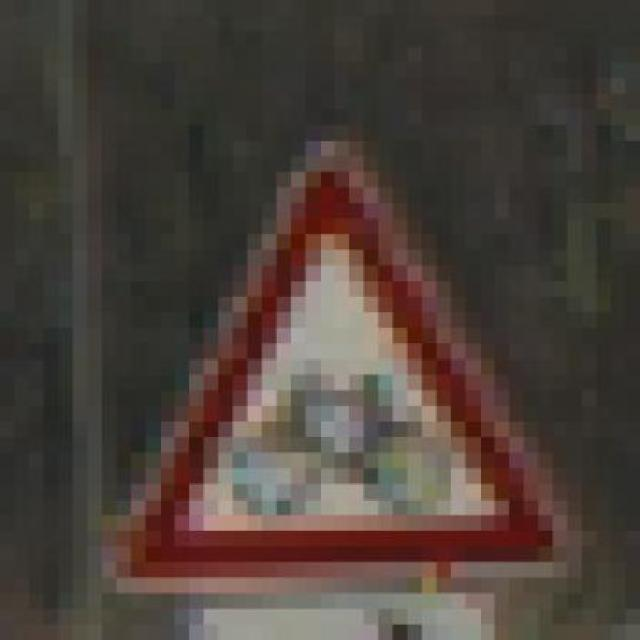CYCLE ROUTE AHEAD WARNING: (87, 125, 567, 578)
